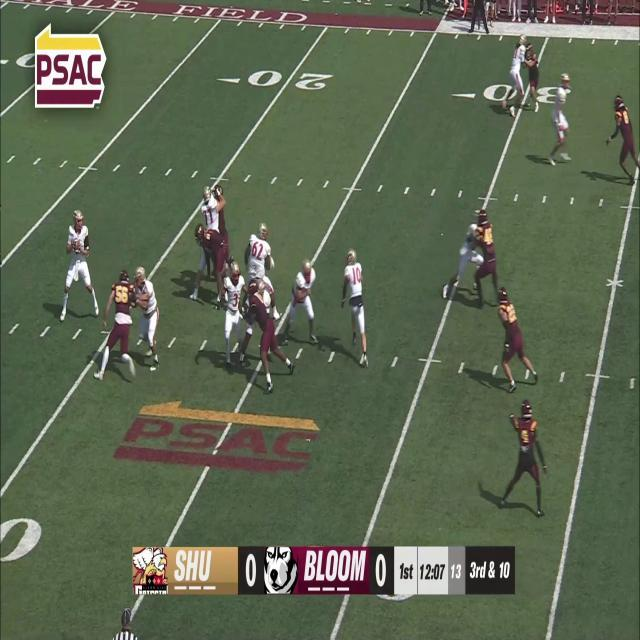football: (74, 240, 80, 254)
